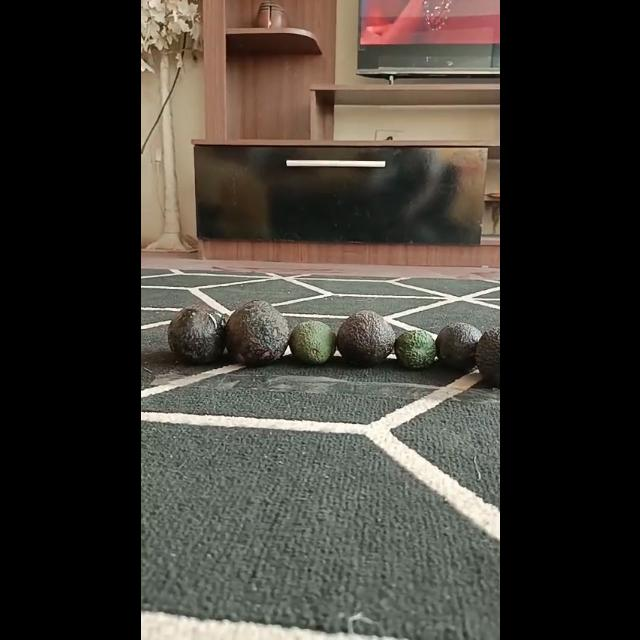Primera: (223, 300, 289, 366), (167, 304, 226, 364), (335, 310, 395, 366), (474, 326, 498, 388)
Segunda: (435, 322, 481, 370), (288, 320, 336, 364)
Tercera: (394, 330, 436, 370)
